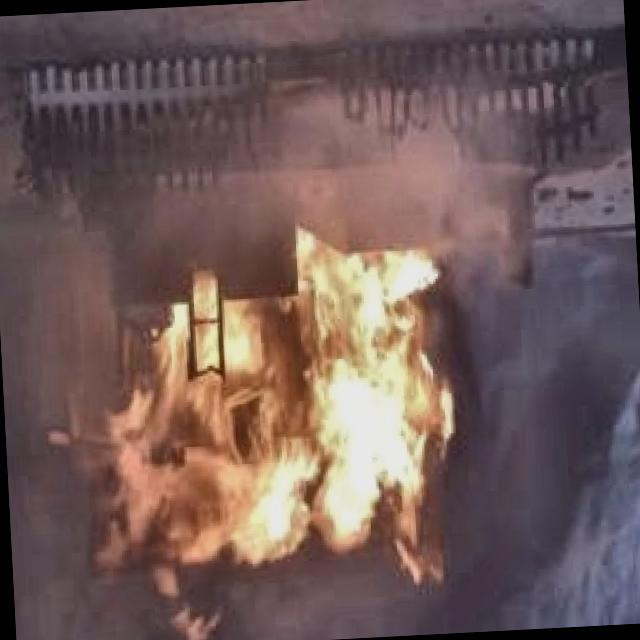fire: (89, 229, 474, 640)
